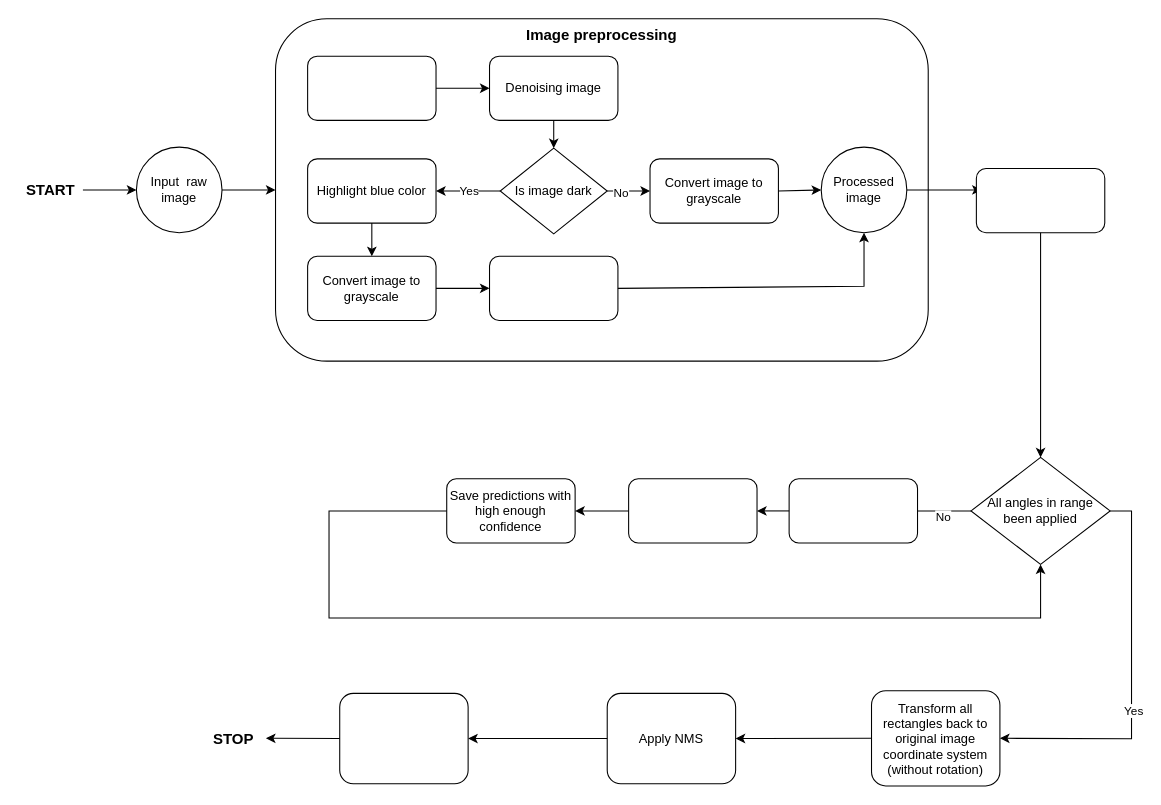
Image size: 1161x805. Some labels were removed from this diagram. Here are the shapes that lost their labels. From the top down, the centre of each, then its label:
point (371, 87): Upscale image
point (1040, 200): Initialize rotation angle range
point (553, 287): Apply thresholding (None/ OTSU/ Adaptive)
point (692, 510): Apply Tesseract algorithm on rotated image
point (853, 510): Rotate image by current angle
point (403, 738): Export results in .txt and .png (if desired)
